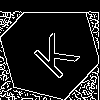K: (25, 25, 80, 81)
